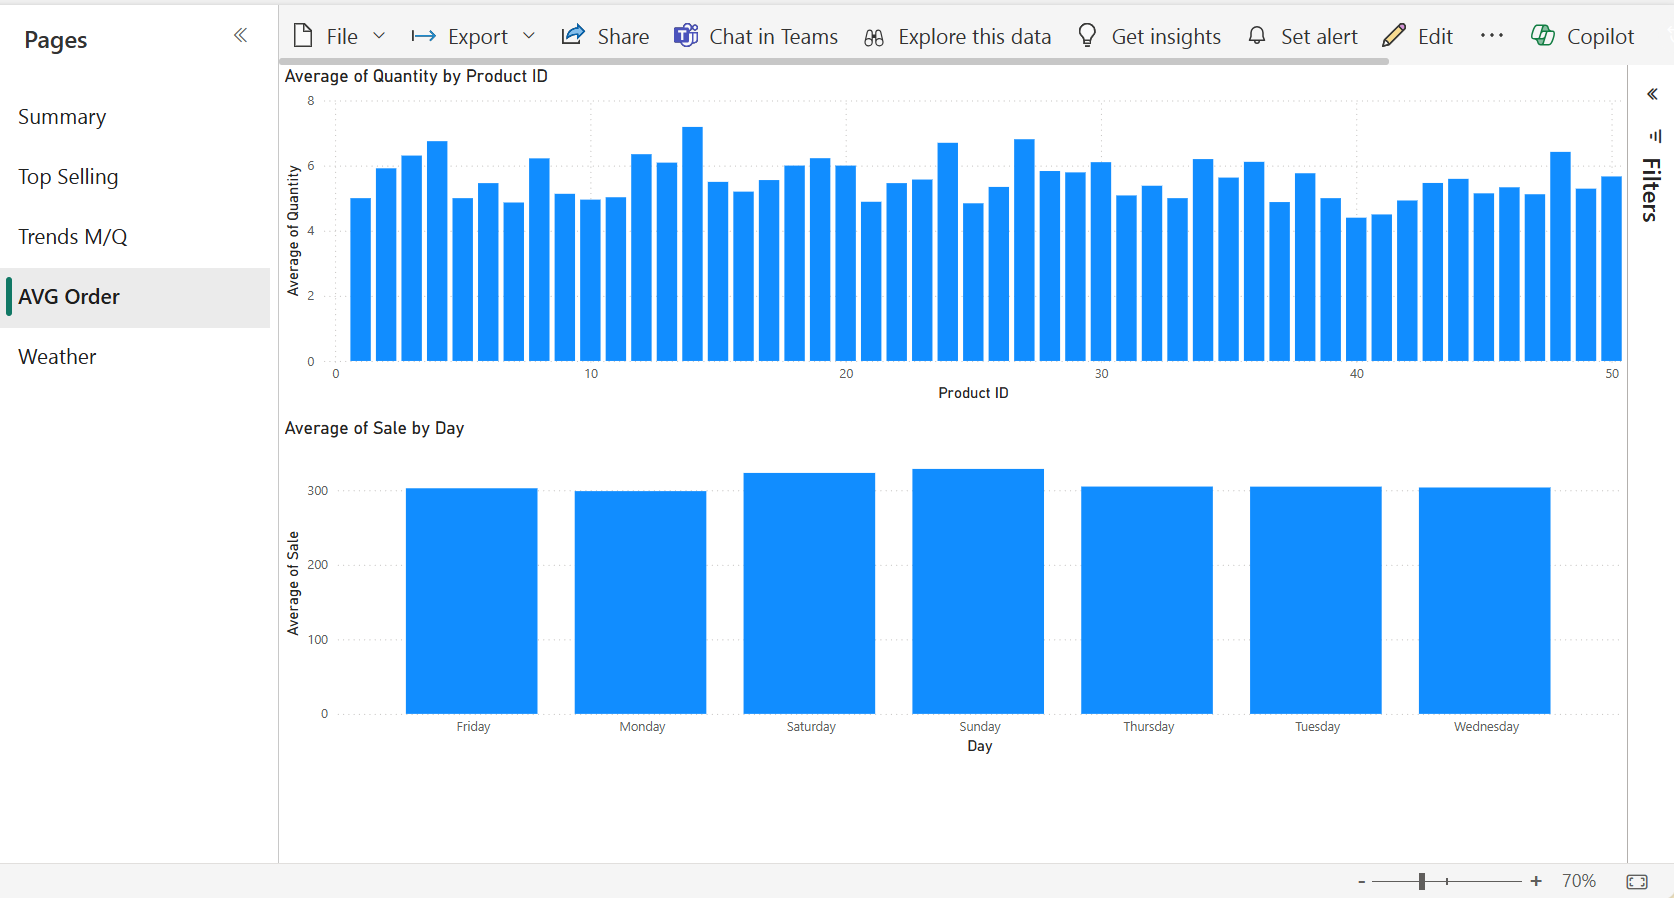

What the dashboard file says about the page in this screenshot:
{"tool":"powerbi","page":{"name":"AVG Order","canvas":[1280,720],"ordinal":3},"visuals":[{"type":"columnChart","fields":{"Category":["pipelines_data gold_avg_order_quantity_per_product.product_id"],"Y":["Avg(pipelines_data gold_avg_order_quantity_per_product.quantity)"]},"box":[0,0,1279.4,323.6],"z":0},{"type":"columnChart","fields":{"Category":["silver_sales.day_name.Variation.Date Hierarchy.Month"],"Y":["Avg(silver_sales.order_sale)"]},"box":[0,334,1279,324],"z":1}]}

Visuals, with their boxes on the page's 1280x720 design canvas (x1, y1, x2, y2). These are canvas units, not pixel positions in the 1674x898 screenshot, which may show the page scaled, cropped or inside an application window:
columnChart - pipelines_data gold_avg_order_quantity_per_product.product_id x Avg(pipelines_data gold_avg_order_quantity_per_product.quantity): 0, 0, 1279, 324
columnChart - silver_sales.day_name.Variation.Date Hierarchy.Month x Avg(silver_sales.order_sale): 0, 334, 1279, 658
